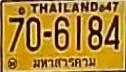0: (26, 16, 40, 50)
1: (75, 15, 80, 50), (76, 15, 80, 50)
4: (104, 14, 118, 49)
6: (54, 16, 68, 50)
7: (8, 17, 24, 51)
8: (88, 15, 102, 49)
MKM: (31, 56, 98, 69)
